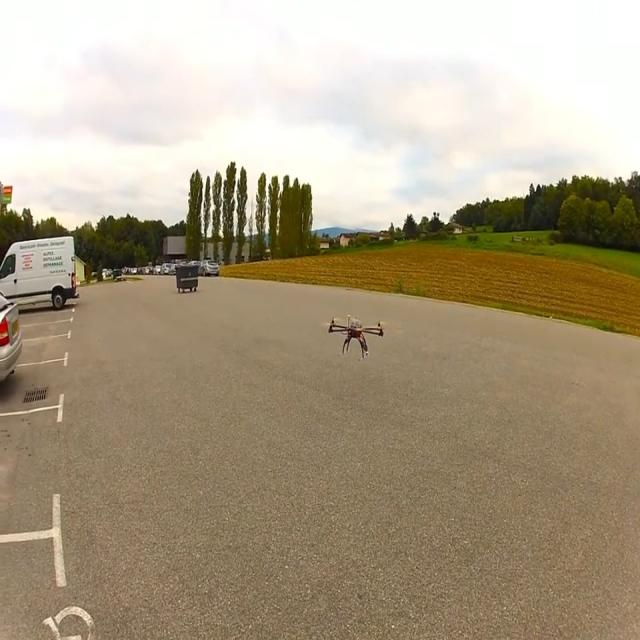drone: (327, 313, 384, 360)
